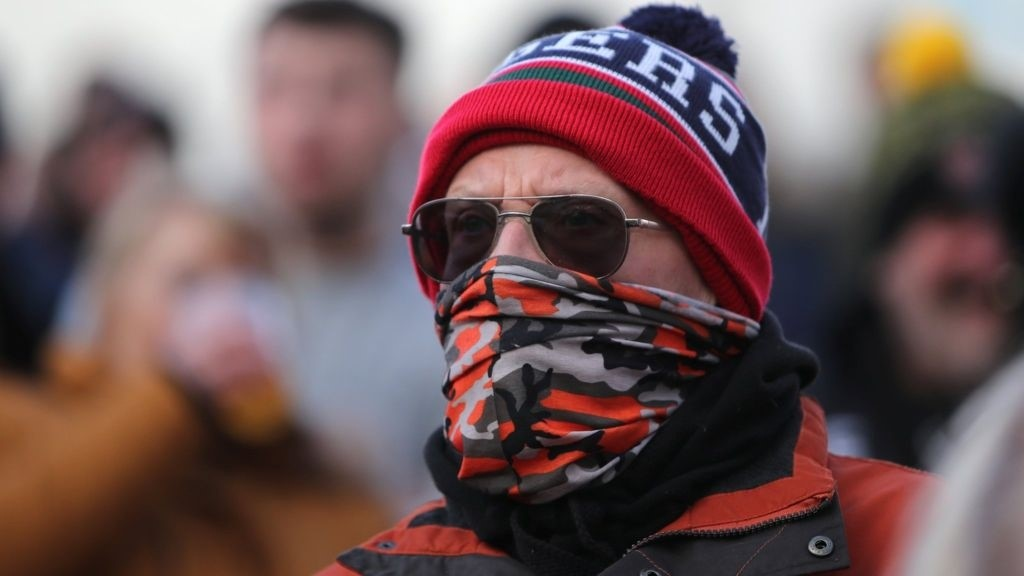face_with_mask: (410, 46, 744, 480)
